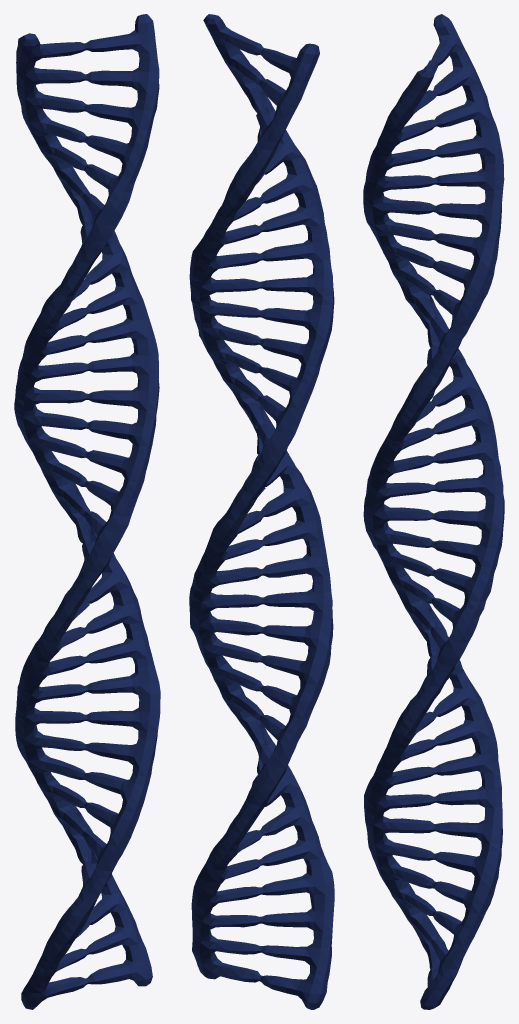
Rendered from DNA_002.obj.
3 renders of one model, left to right at view 1: azimuth 30°, elevation 25°; view 2: azimuth 150°, elevation 25°; view 3: azimuth 270°, elevation 25°, orthographic. The views are drawn at different scales.
Parts seen in each view (by area): view 1: DNA_001; view 2: DNA_001; view 3: DNA_001.
Boxes of the visible parts, x1,y1,x2,y2 form: DNA_001: [14, 14, 160, 1009]; DNA_001: [189, 14, 334, 1009]; DNA_001: [363, 14, 504, 1009].
Bounding box in the file's own units: 0.5744 × 4.25 × 0.5767.
